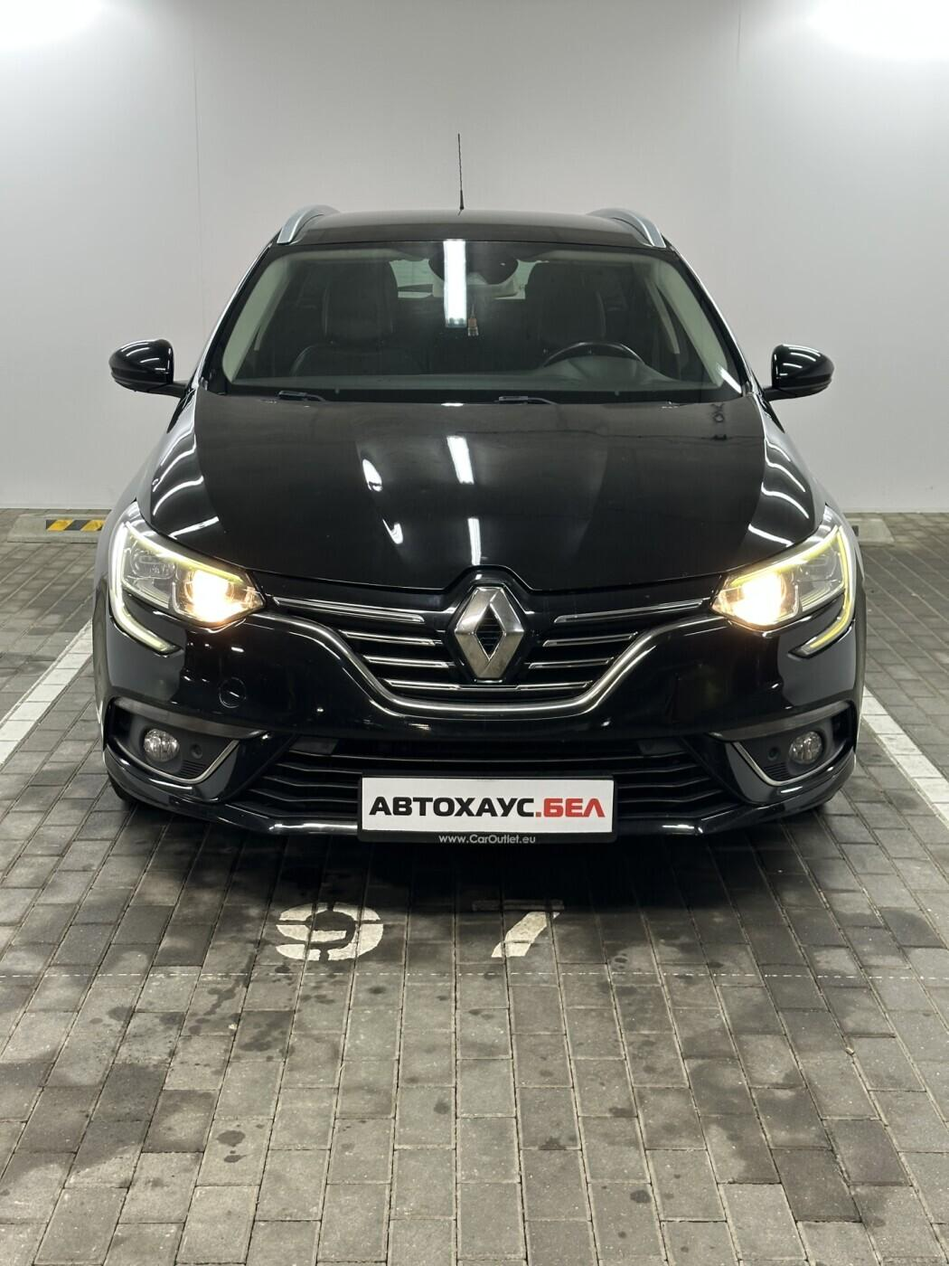Megane_2016-2020: (87, 190, 877, 895)
